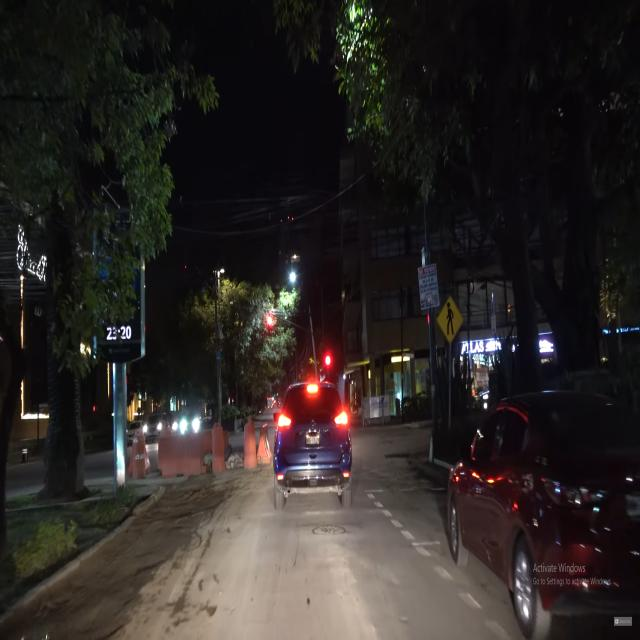headlights: (180, 412, 204, 435), (142, 420, 164, 434)
